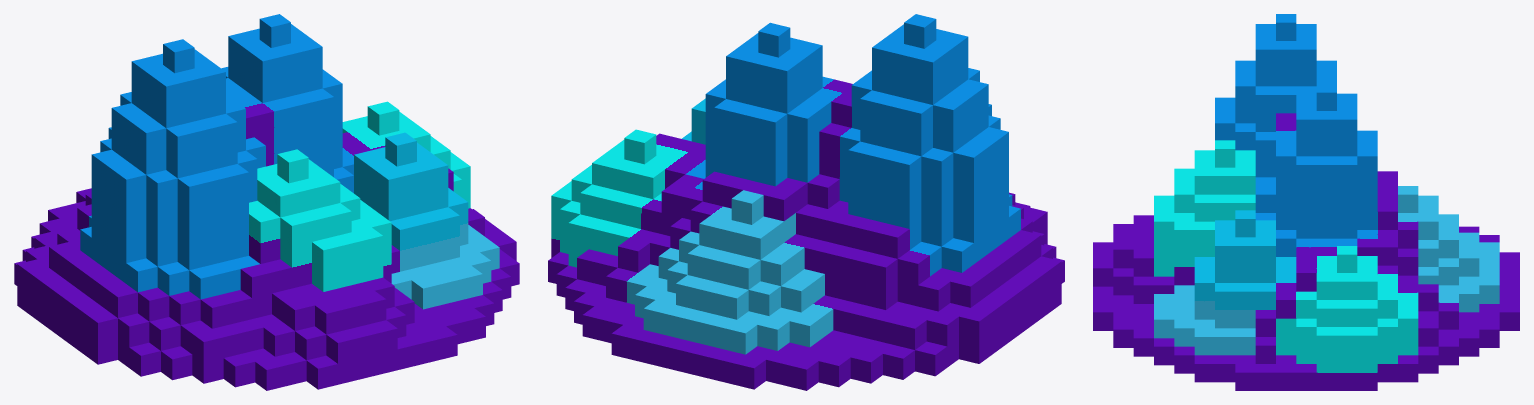
File: Crystal1.dae
The picture shows the model from 3 angles, left to right: view 1: azimuth 30°, elevation 25°; view 2: azimuth 150°, elevation 25°; view 3: azimuth 270°, elevation 25°; orthographic projection. The views are drawn at different scales.
Parts seen in each view (by area): view 1: Crystal1; view 2: Crystal1; view 3: Crystal1.
Part boxes in pixels (<box>): Crystal1: <box>14,14,519,390</box>; Crystal1: <box>548,14,1064,390</box>; Crystal1: <box>1093,14,1519,390</box>.
Size of the model in its own units: 2.1 by 1.3 by 2.1.
1 material, 1 textured.
